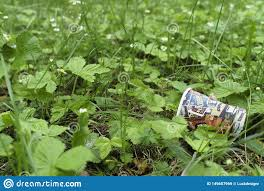paper_cup: (171, 87, 246, 139)
